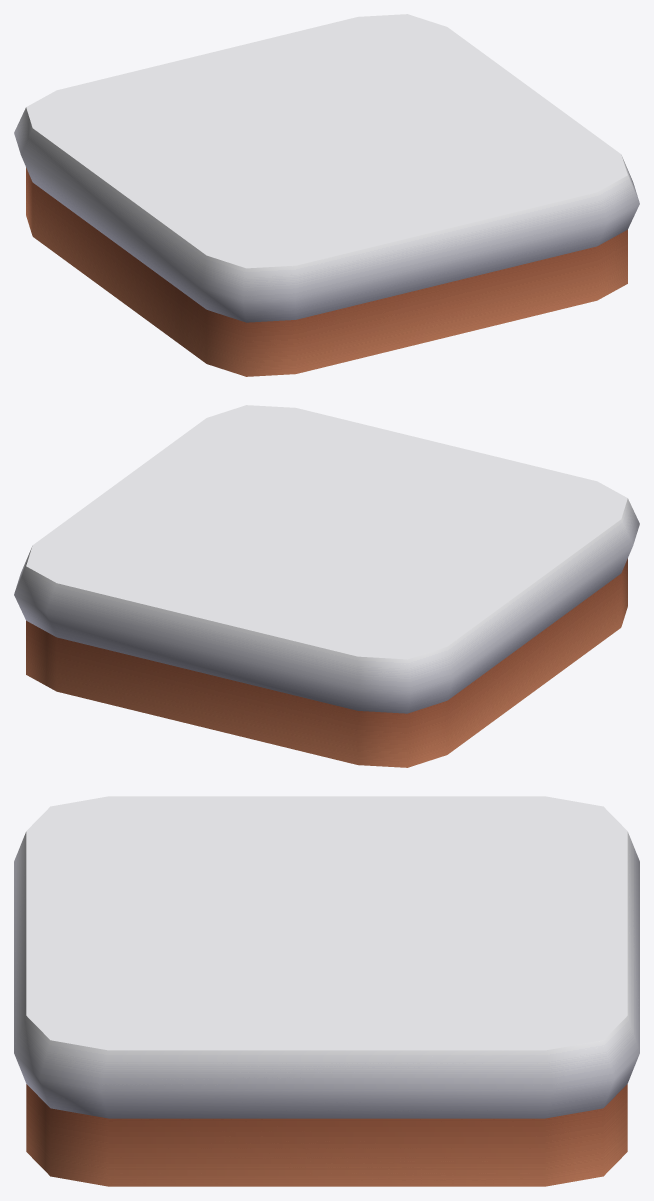
File: block-snow-low-large.glb
3 views of the same model, one above another, from view 1: azimuth 30°, elevation 25°; view 2: azimuth 150°, elevation 25°; view 3: azimuth 270°, elevation 25° (orthographic). The views are drawn at different scales.
Parts seen in each view (by area): view 1: block-snow-low-large; view 2: block-snow-low-large; view 3: block-snow-low-large.
Part boxes in pixels (x1,y1,x2,y2): block-snow-low-large: (14, 14, 639, 376); block-snow-low-large: (14, 405, 639, 767); block-snow-low-large: (14, 796, 639, 1186).
Bounding box in the file's own units: 2.08 × 0.5 × 2.08.
1 material, 1 textured.
